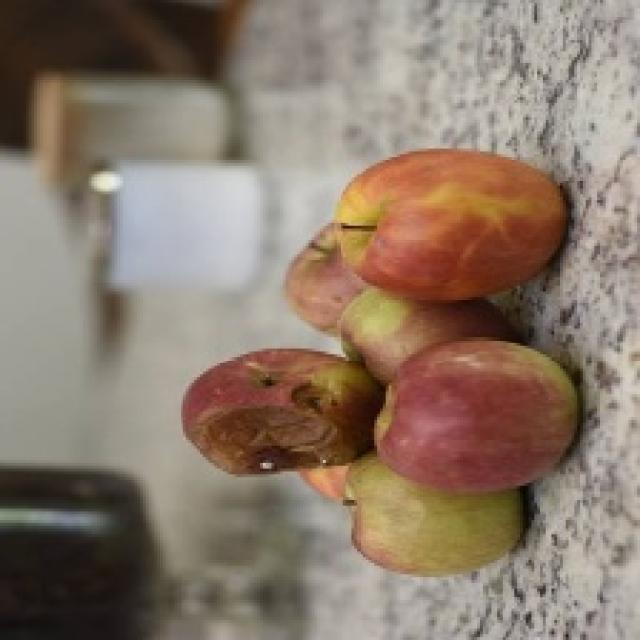100-_ripeness: (336, 150, 568, 294), (380, 334, 582, 491)
50-_ripeness: (345, 488, 530, 571)
rotten_apple: (182, 352, 376, 469)
